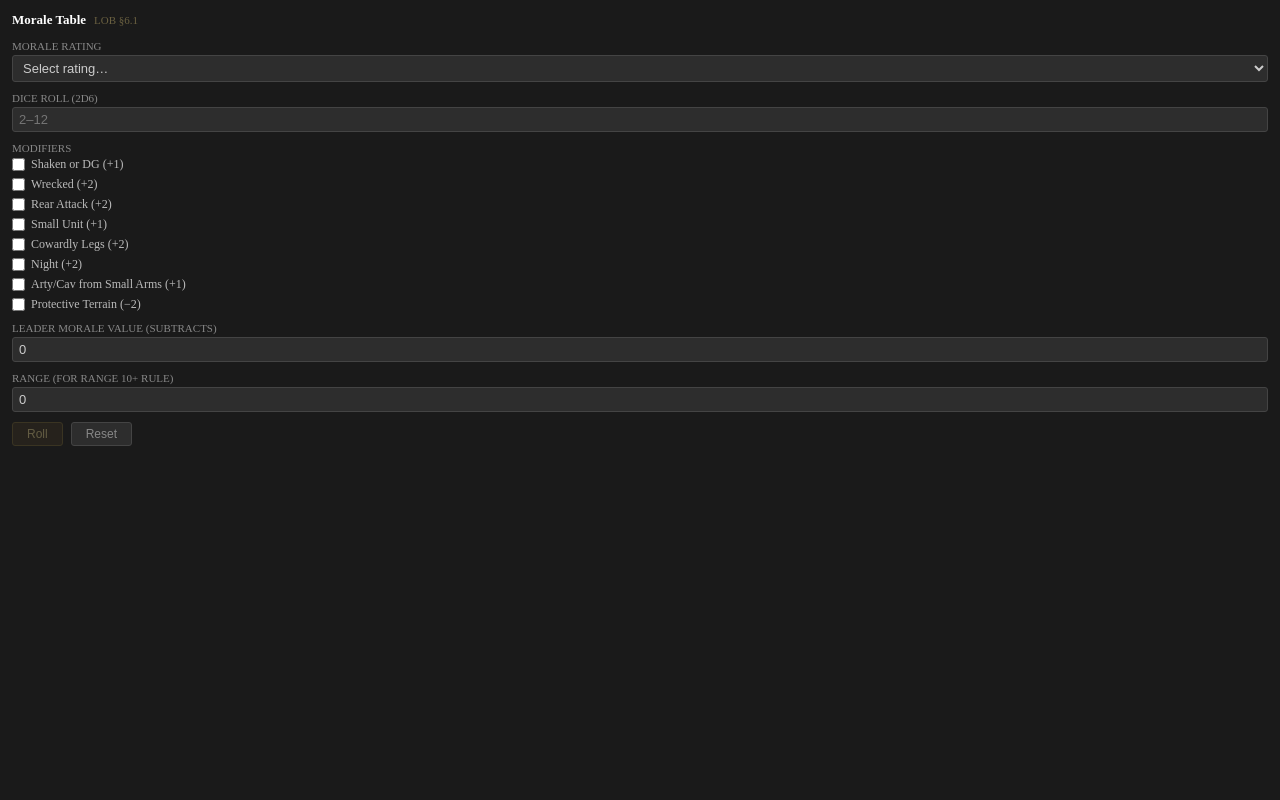
Scenario: MoralePanel › reset clears result
This screenshot has width=1280, height=800.
Select "C" in the dropdown labelled "Morale Rating" at coordinates (640, 68), box [12,55,1268,82]
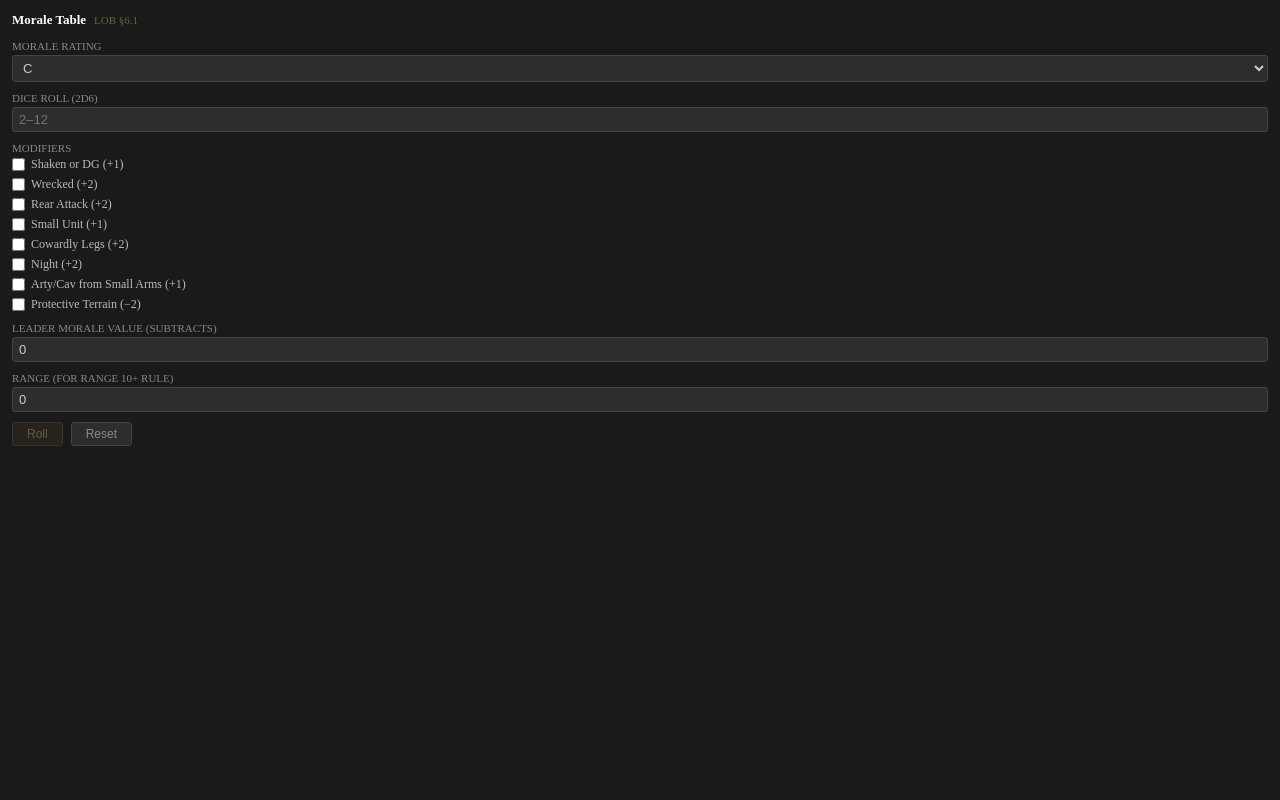
Type "8" into the number field with placeholder "2–12" at coordinates (640, 120), box [12,107,1268,132]
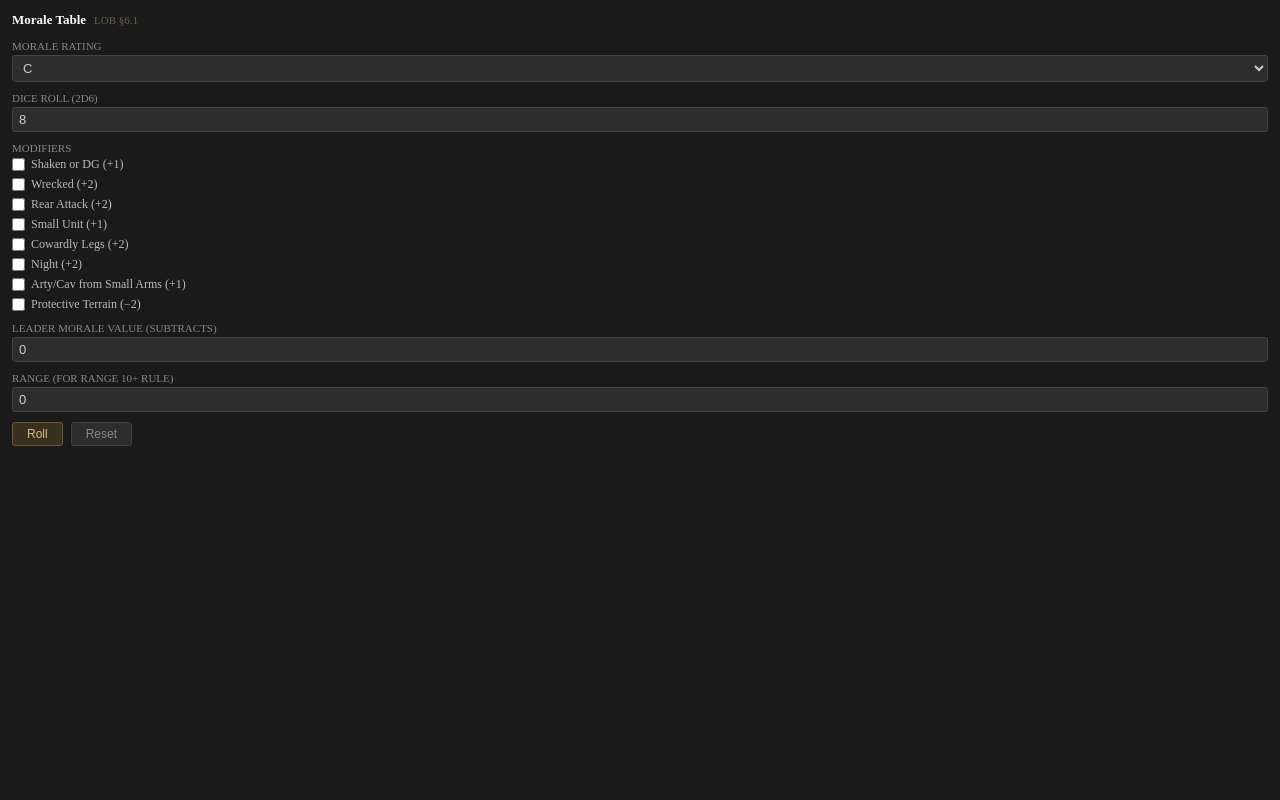
Click the button "Roll" at coordinates (37, 434), box [12,422,63,446]
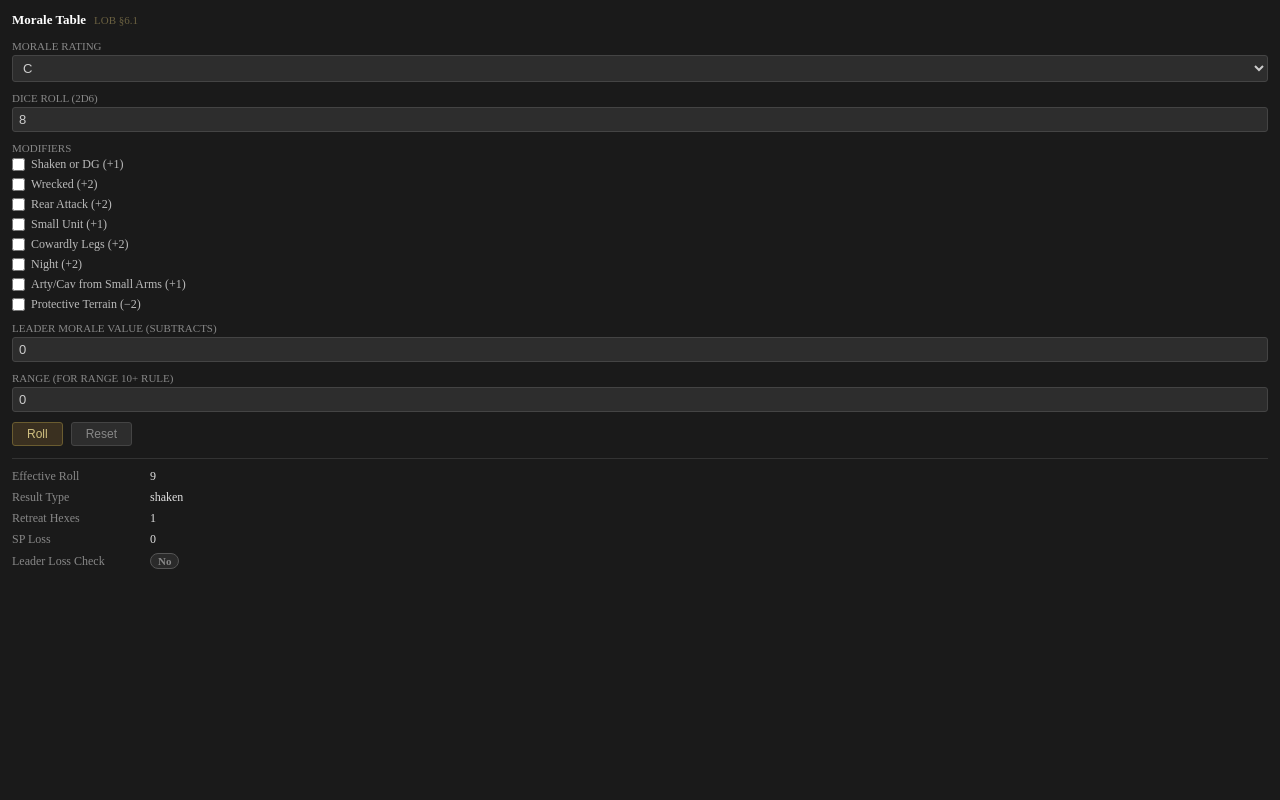
Click the button "Reset" at coordinates (101, 434), box [71,422,132,446]
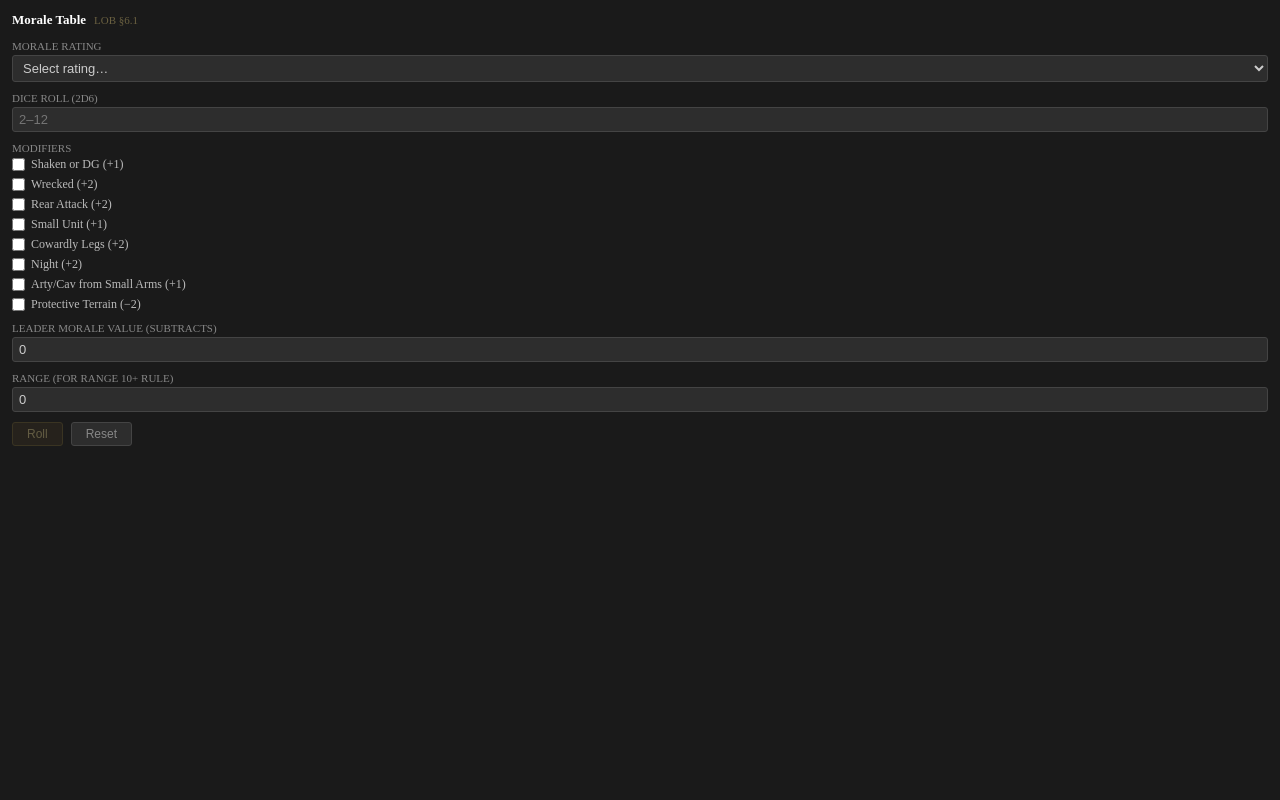
Result: the text "Effective Roll" is gone
